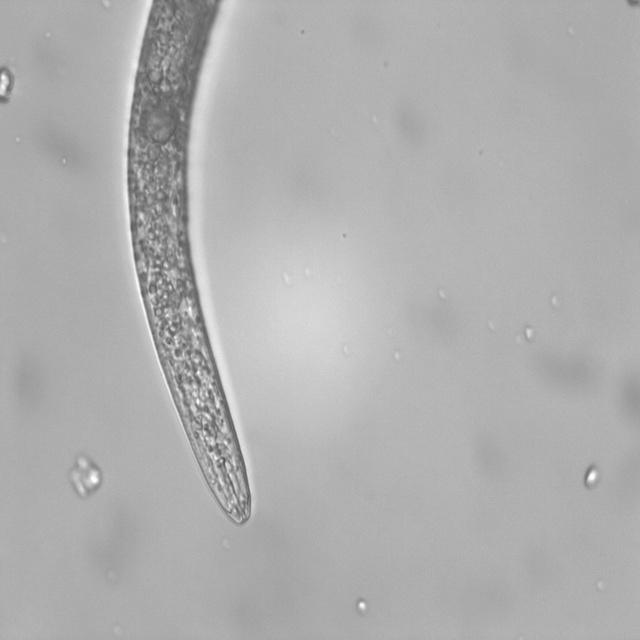Helicotylenchus: (129, 0, 264, 532)
